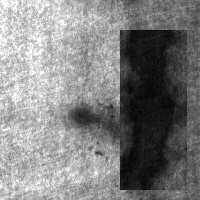patches: (120, 30, 187, 190), (67, 103, 134, 139)
